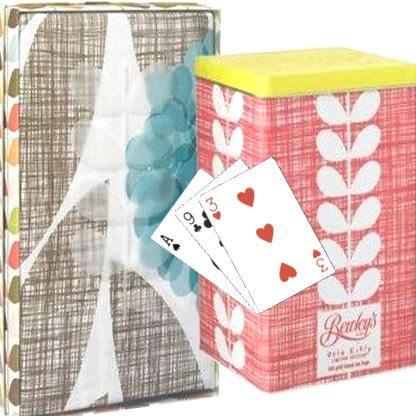3H: (309, 246, 330, 274), (202, 194, 222, 222)
9C: (180, 209, 203, 233)
AS: (157, 232, 181, 252)
